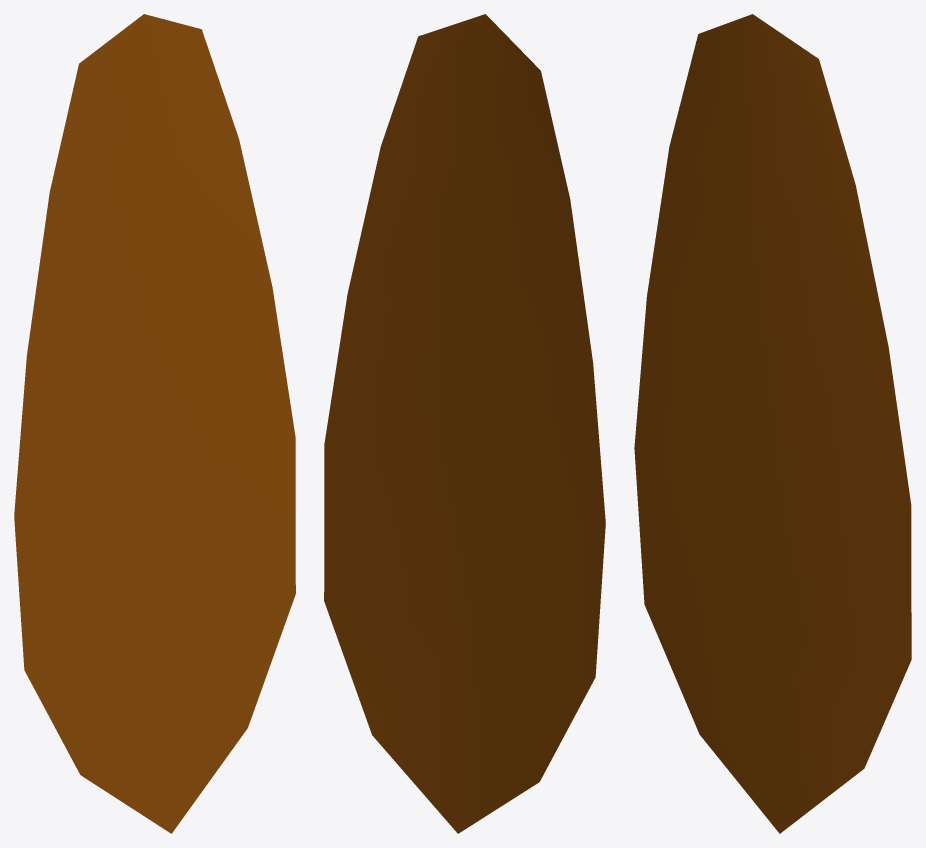
File: ara_feather_flight_secondary_005.obj
The picture shows the model from 3 angles, left to right: view 1: azimuth 30°, elevation 25°; view 2: azimuth 150°, elevation 25°; view 3: azimuth 330°, elevation 25°; orthographic projection.
Parts seen in each view (by area): view 1: feather_flight_secondary_005; view 2: feather_flight_secondary_005; view 3: feather_flight_secondary_005.
Boxes of the visible parts, left/top/right/bottom form: feather_flight_secondary_005: left=14, top=14, right=295, bottom=833; feather_flight_secondary_005: left=324, top=14, right=605, bottom=833; feather_flight_secondary_005: left=634, top=14, right=911, bottom=833.
Size of the model in its own units: 0.0243 by 0.0681 by 0.000724.
